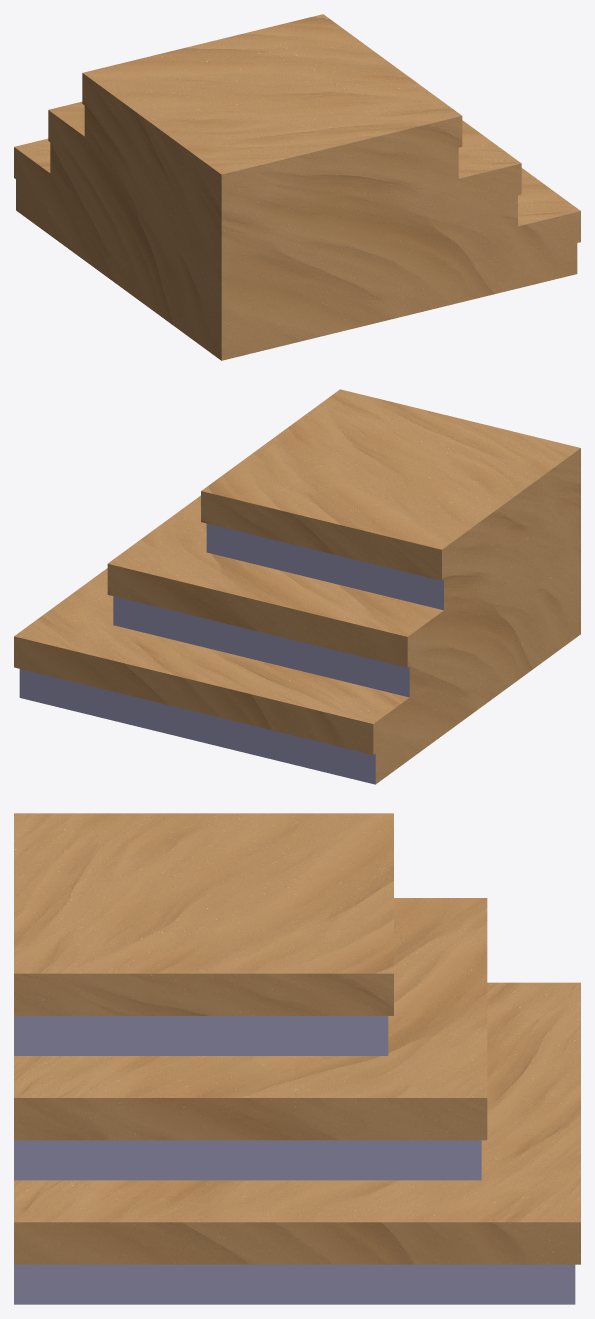
Rendered from stairs_half_corner.glb.
3 views of the same model, one above another, from view 1: azimuth 30°, elevation 25°; view 2: azimuth 150°, elevation 25°; view 3: azimuth 270°, elevation 25° (orthographic). The views are drawn at different scales.
Parts seen in each view (by area): view 1: stairs-half-corner; view 2: stairs-half-corner; view 3: stairs-half-corner.
Boxes of the visible parts, x1,y1,x2,y2 form: stairs-half-corner: (14, 14, 580, 360); stairs-half-corner: (14, 389, 580, 784); stairs-half-corner: (14, 813, 580, 1304).
Bounding box in the file's own units: 1.01 × 0.5 × 1.01.
Materials: 2 (1 with a texture image).
